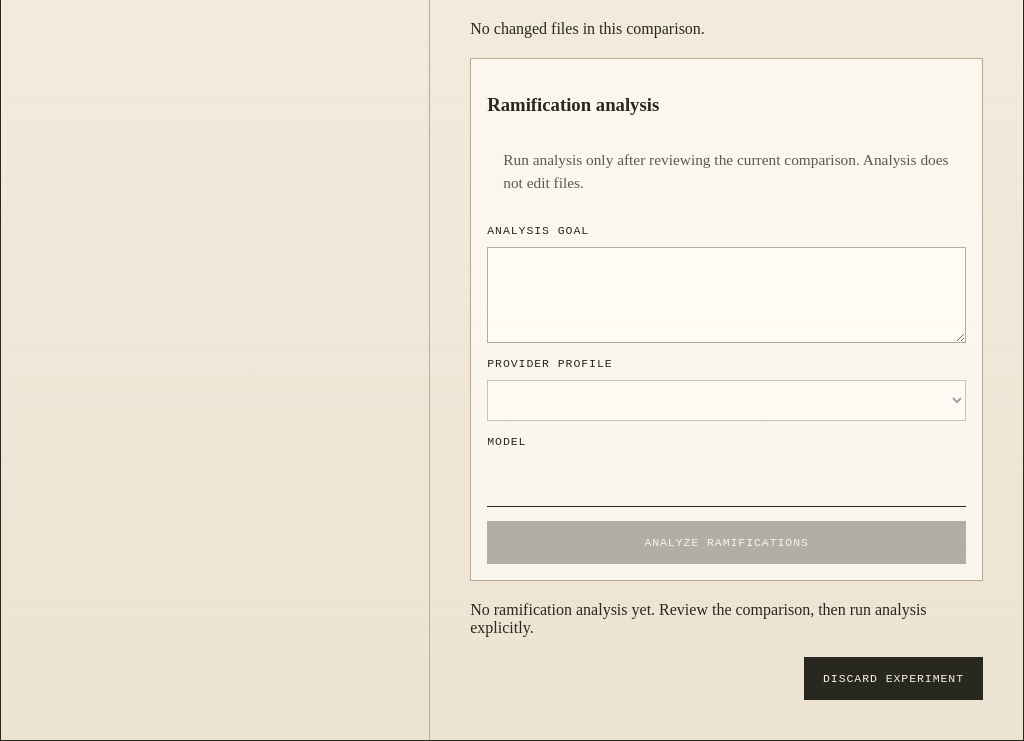
Scenario: shows stale discard conflicts without clearing the experiment list prematurely
(page scrolled)
Click the button "Discard experiment" at (894, 679), box [804, 657, 983, 700]
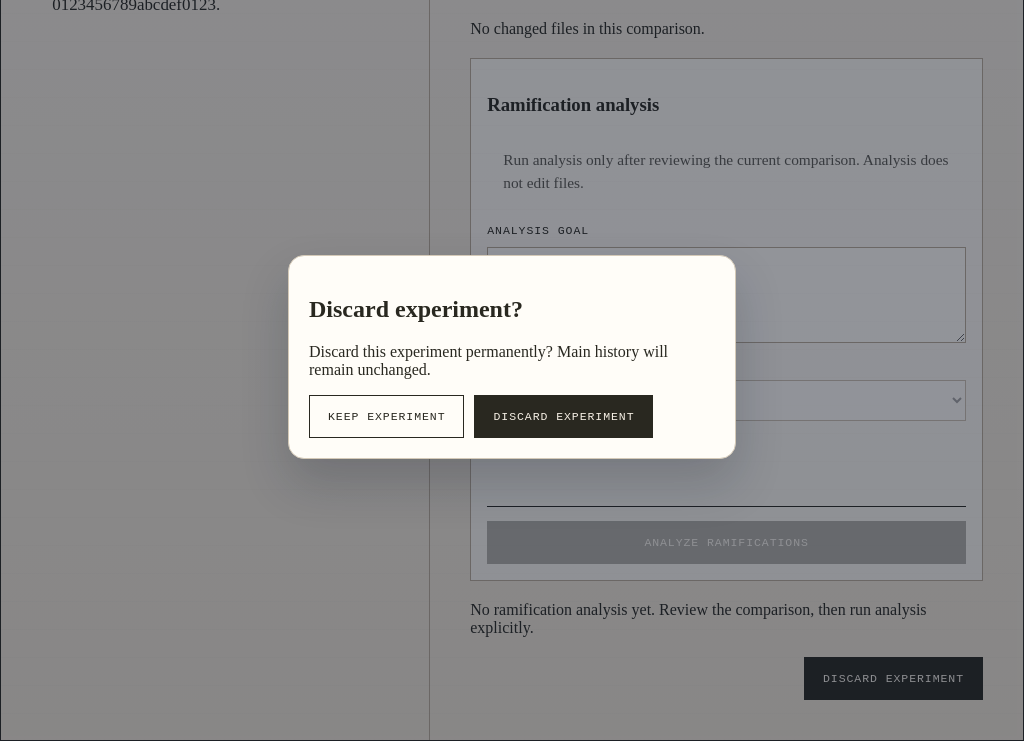
Expected: the dialog "Discard experiment?" is shown, [288, 255, 736, 459]
Click the button "Discard experiment" at (564, 416), box [474, 395, 654, 438]
(page scrolled)
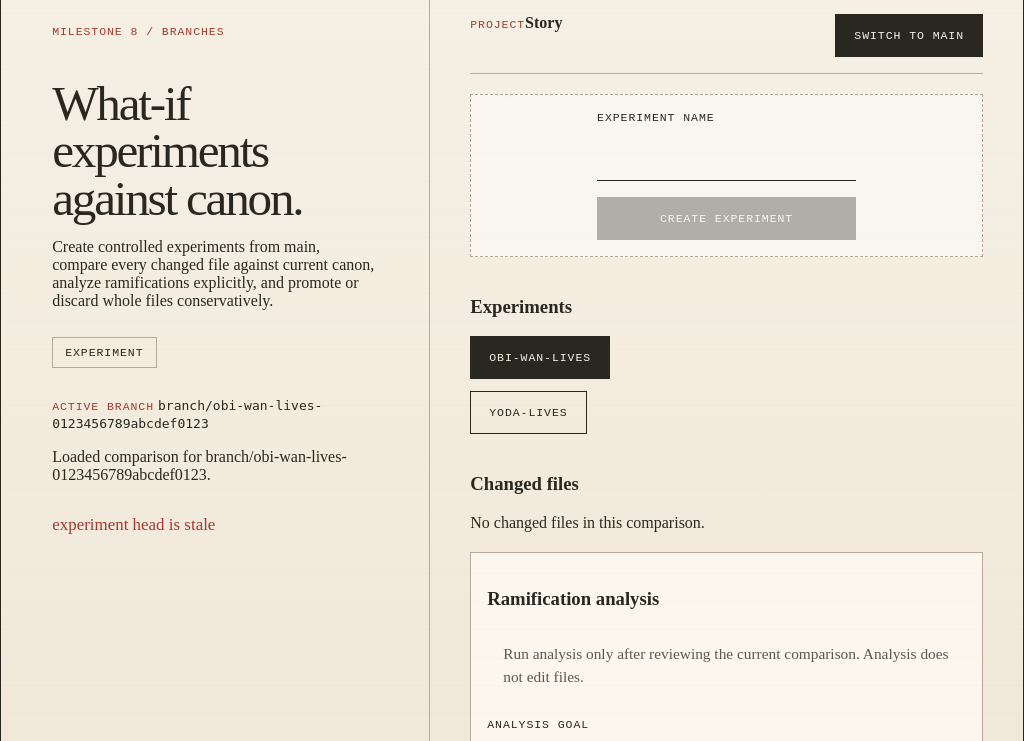
Expected: the button "obi-wan-lives" is shown, [470, 336, 610, 379]
Expected: the message shows "stale", [52, 515, 215, 534]
